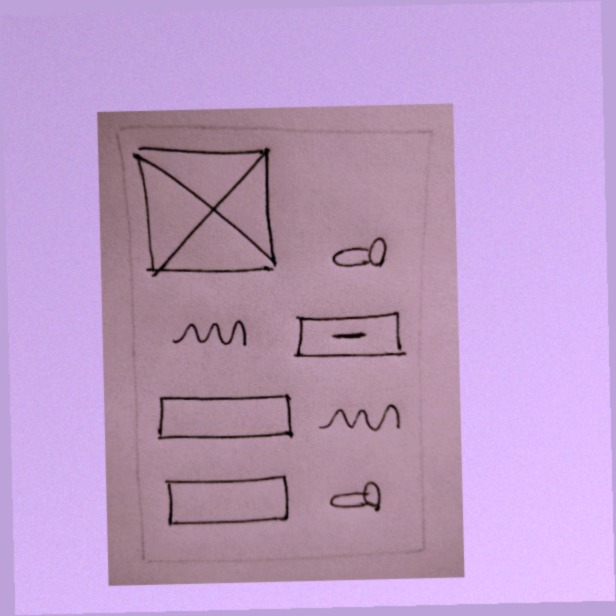button: (288, 309, 414, 366)
image: (129, 139, 285, 283)
switch: (323, 475, 388, 526), (324, 231, 394, 277)
text: (317, 397, 404, 446), (167, 313, 251, 356)
text_input: (152, 387, 297, 449), (157, 472, 298, 531)
